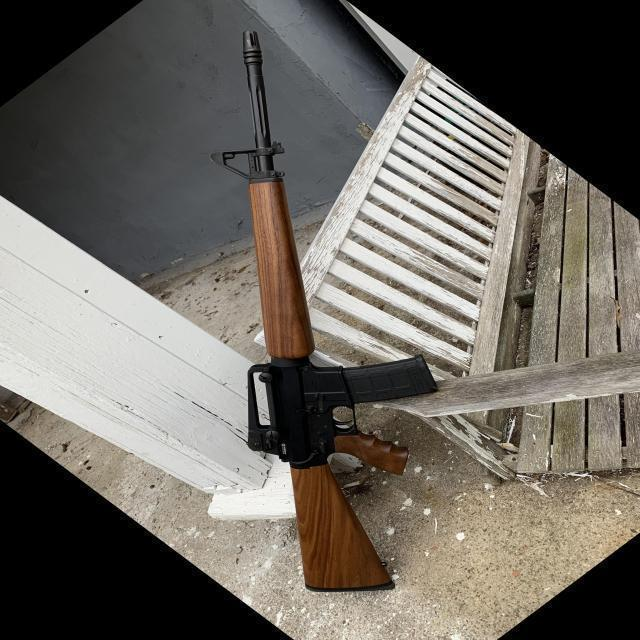Rifle: (219, 31, 442, 592)
